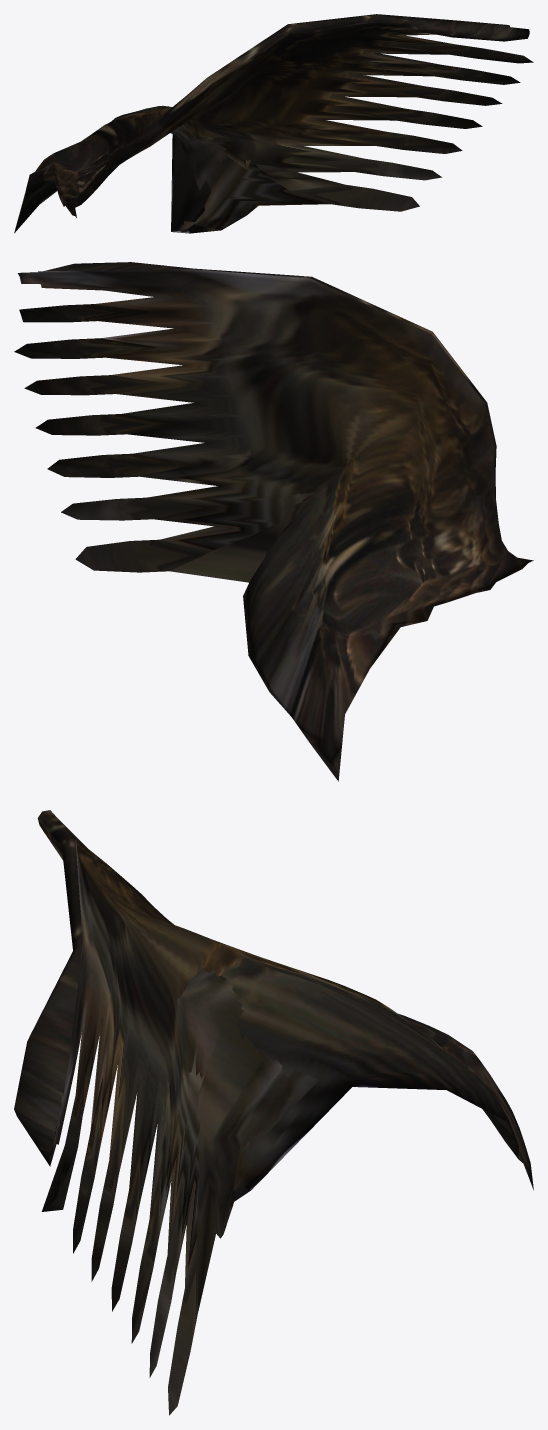
Rendered from alaIzquierda.fbx.
3 views of the same model, one above another, from view 1: azimuth 30°, elevation 25°; view 2: azimuth 150°, elevation 25°; view 3: azimuth 270°, elevation 25° (orthographic). The views are drawn at different scales.
Visible parts, largest first — view 1: Flugel.001; view 2: Flugel.001; view 3: Flugel.001.
Boxes of the visible parts, left/top/right/bottom form: Flugel.001: left=14, top=14, right=533, bottom=233; Flugel.001: left=14, top=262, right=533, bottom=781; Flugel.001: left=14, top=810, right=533, bottom=1415.
Size of the model in its own units: 508 by 300 by 292.
